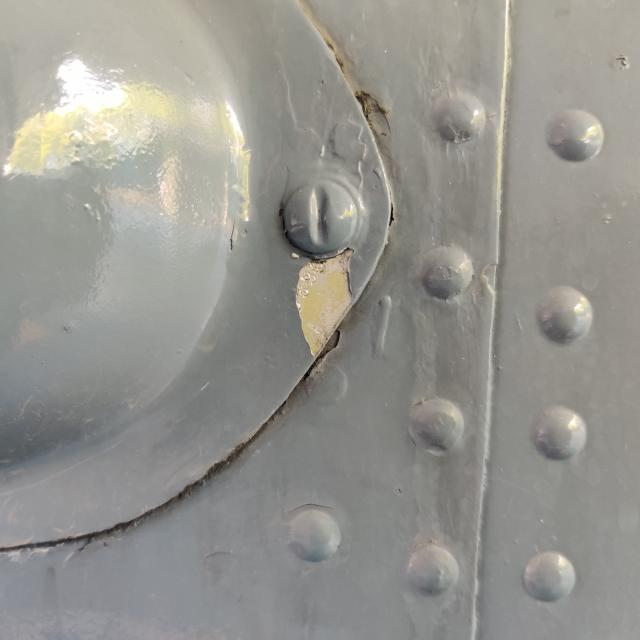paint-off: (267, 233, 390, 384)
